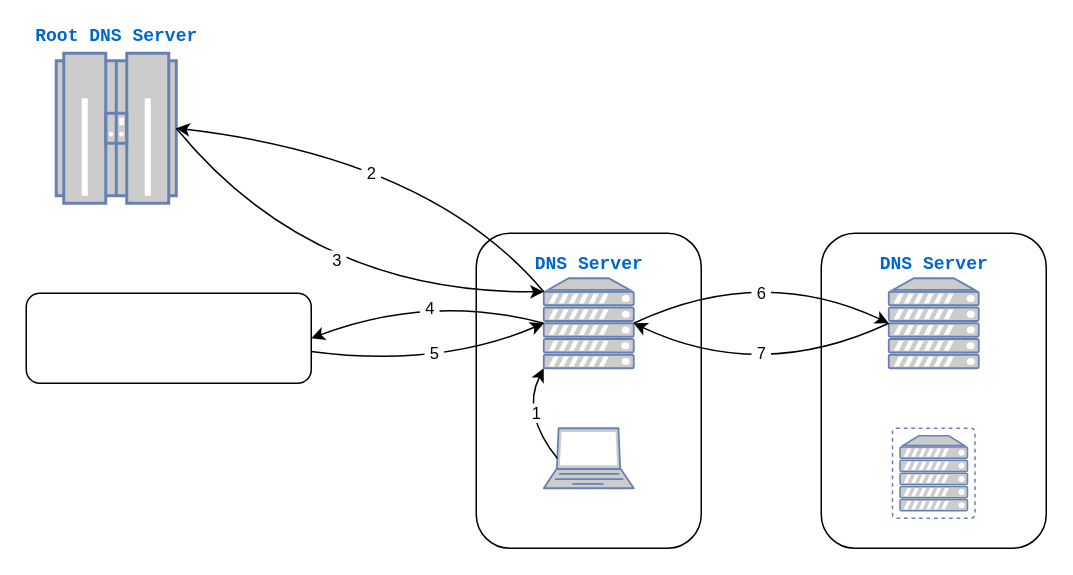
Image size: 1073x575. Some labels were removed from this diagram. Here are the shapes that lost their labels. From the top down, the centre of each, then its label:
point (168, 337): TLD Server .com .id .org .net .gov
point (933, 472): www.example.com
